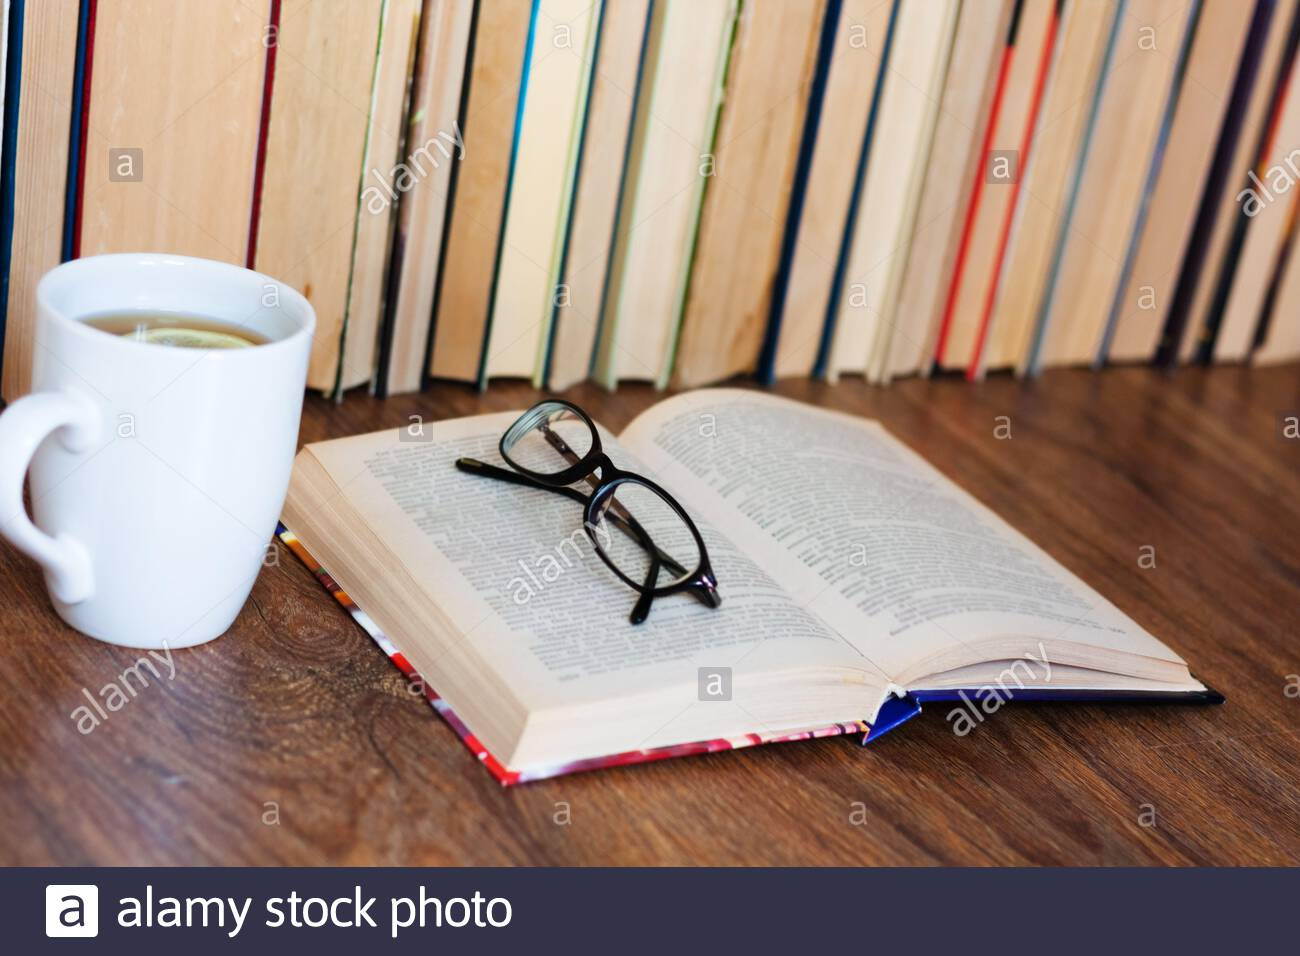Open Book: (313, 410, 1227, 772)
